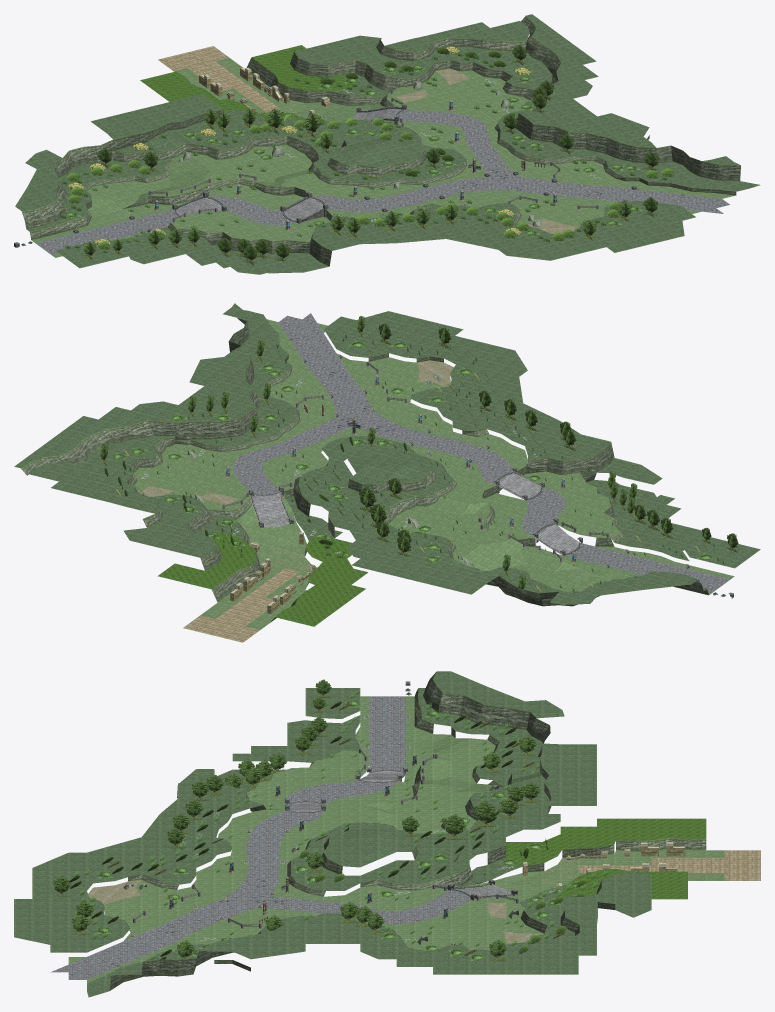
Rendered from East3.obj.
3 views of the same model, one above another, from view 1: azimuth 30°, elevation 25°; view 2: azimuth 150°, elevation 25°; view 3: azimuth 270°, elevation 25° (orthographic). The views are drawn at different scales.
Parts seen in each view (by area): view 1: Object.134, Object.213, Object.207, Object.136, Object.198, Object.131, Object.174, Object.125, Object.127, Object.128, Object.24, Object.186 (+99 smaller); view 2: Object.134, Object.136, Object.131, Object.213, Object.186, Object.187, Object.125, Object.138, Object.189, Object.198, Object.174, Object.209 (+85 smaller); view 3: Object.134, Object.136, Object.213, Object.174, Object.131, Object.207, Object.186, Object.198, Object.193, Object.138, Object.130, Object.128 (+81 smaller).
Boxes of the visible parts, x1=… form: Object.134: x1=189, y1=88, x2=410, y2=198; Object.213: x1=573, y1=216, x2=683, y2=252; Object.207: x1=118, y1=101, x2=203, y2=142; Object.136: x1=246, y1=95, x2=324, y2=242; Object.198: x1=330, y1=143, x2=406, y2=182; Object.131: x1=277, y1=169, x2=609, y2=220; Object.174: x1=626, y1=203, x2=695, y2=235; Object.125: x1=181, y1=145, x2=312, y2=181; Object.127: x1=87, y1=70, x2=488, y2=229; Object.128: x1=396, y1=71, x2=593, y2=175; Object.24: x1=565, y1=133, x2=655, y2=173; Object.186: x1=341, y1=216, x2=429, y2=244; Object.134: x1=207, y1=494, x2=536, y2=558; Object.136: x1=257, y1=471, x2=597, y2=589; Object.131: x1=349, y1=357, x2=483, y2=514; Object.213: x1=369, y1=311, x2=463, y2=358; Object.186: x1=497, y1=416, x2=580, y2=456; Object.187: x1=90, y1=404, x2=183, y2=458; Object.125: x1=389, y1=506, x2=486, y2=564; Object.138: x1=245, y1=545, x2=592, y2=629; Object.189: x1=177, y1=390, x2=278, y2=446; Object.198: x1=365, y1=448, x2=444, y2=482; Object.174: x1=324, y1=311, x2=415, y2=345; Object.209: x1=41, y1=434, x2=137, y2=483; Object.134: x1=377, y1=780, x2=542, y2=908; Object.136: x1=246, y1=780, x2=615, y2=887; Object.213: x1=14, y1=891, x2=104, y2=936; Object.174: x1=14, y1=914, x2=104, y2=952; Object.131: x1=104, y1=810, x2=396, y2=930; Object.207: x1=512, y1=759, x2=596, y2=798; Object.186: x1=160, y1=798, x2=252, y2=837; Object.198: x1=307, y1=823, x2=396, y2=855; Object.193: x1=306, y1=850, x2=395, y2=890; Object.138: x1=403, y1=753, x2=724, y2=857; Object.130: x1=104, y1=864, x2=239, y2=910; Object.128: x1=232, y1=902, x2=543, y2=937.
Size of the model in its own units: 173 by 15.25 by 164.
22 materials, 22 textured.
